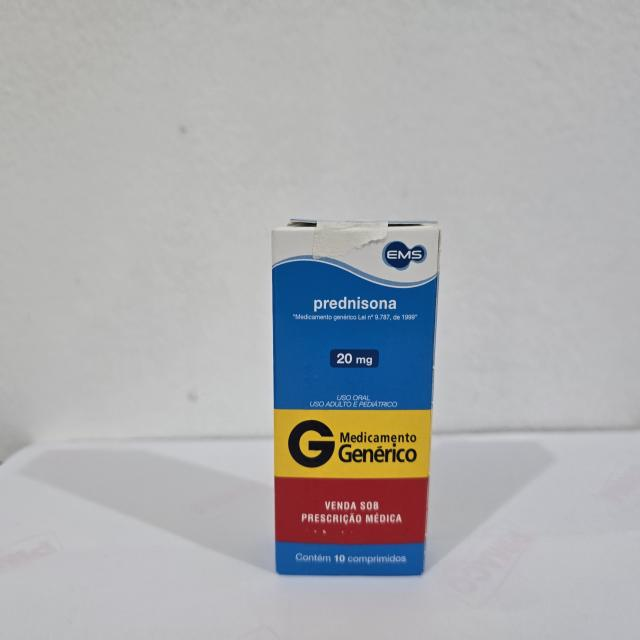prednisona: (267, 214, 444, 580)
